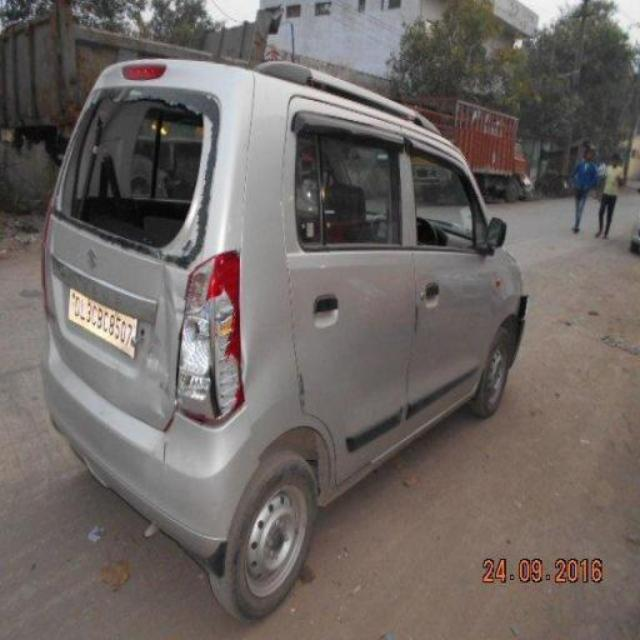glass shatter: (51, 93, 209, 262)
lamp broken: (175, 263, 250, 431)
scratch: (145, 265, 185, 468)
